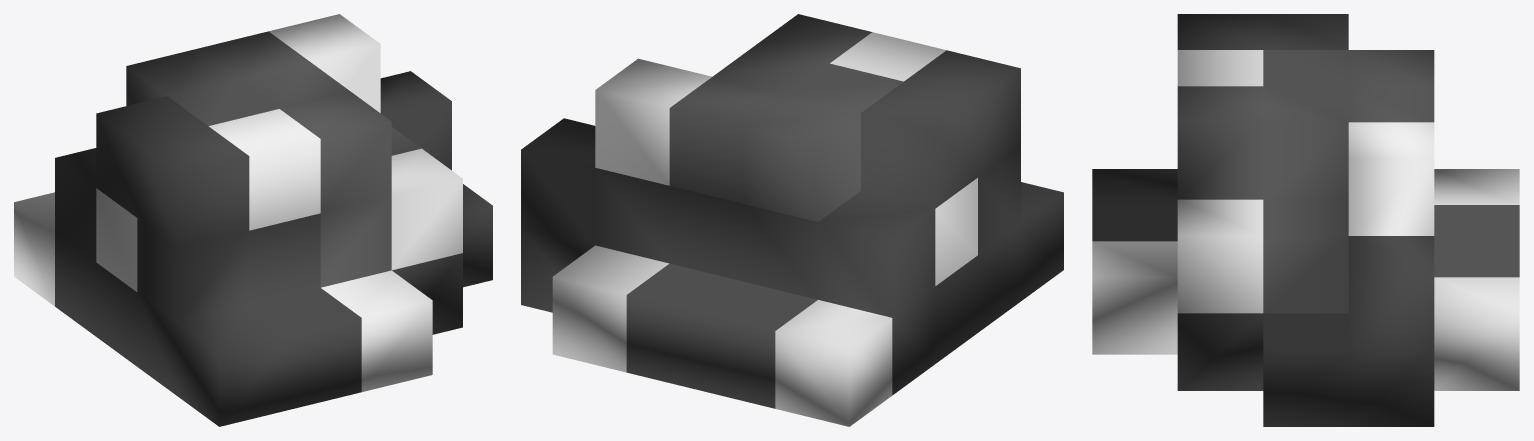
Rendered from Metal.fbx.
3 views of the same model, side by side, from view 1: azimuth 30°, elevation 25°; view 2: azimuth 150°, elevation 25°; view 3: azimuth 270°, elevation 25° (orthographic). The views are drawn at different scales.
Visible parts, largest first — view 1: Metal; view 2: Metal; view 3: Metal.
Boxes of the visible parts, x1,y1,x2,y2 form: Metal: (14, 14, 492, 426); Metal: (521, 14, 1063, 426); Metal: (1092, 14, 1519, 426).
Size of the model in its own units: 0.5 by 0.3 by 0.5.
